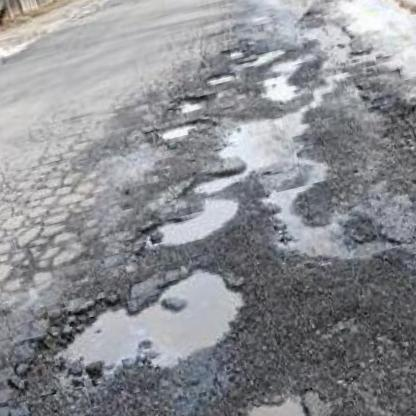pothole: (39, 251, 261, 392), (134, 185, 248, 251), (232, 384, 317, 416), (146, 112, 207, 147), (190, 163, 247, 193), (169, 87, 212, 117), (203, 65, 239, 86)
